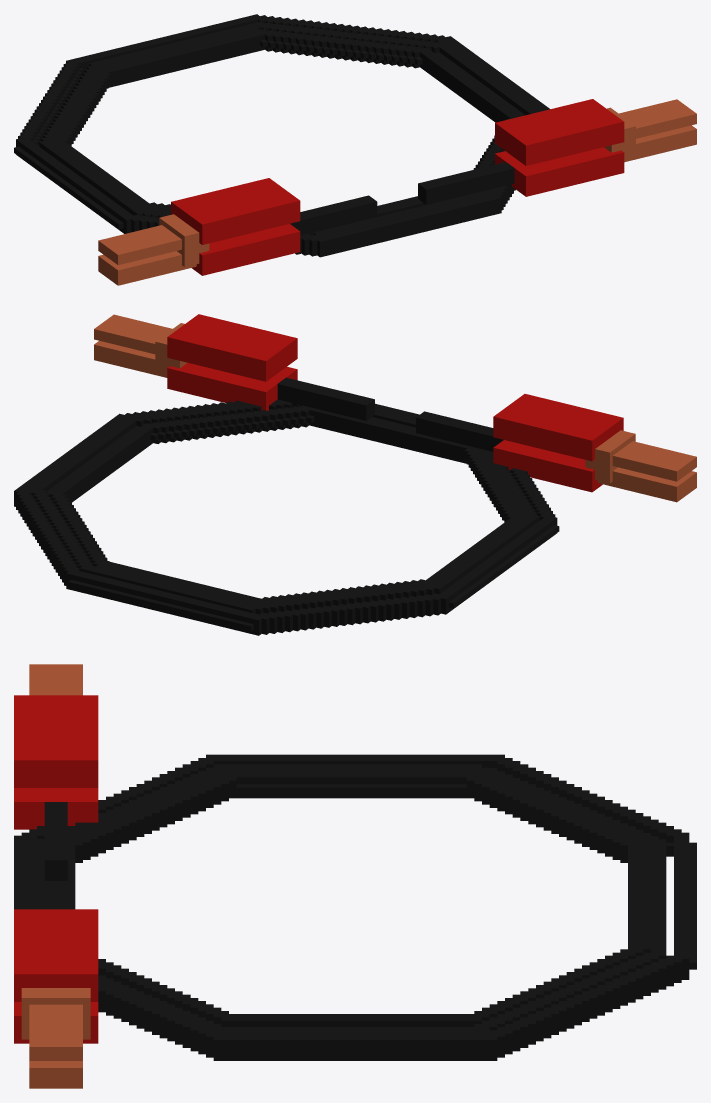
Rendered from jumper_cable.glb.
3 renders of one model, top to bottom at view 1: azimuth 30°, elevation 25°; view 2: azimuth 150°, elevation 25°; view 3: azimuth 270°, elevation 25°, orthographic. The views are drawn at different scales.
Parts seen in each view (by area): view 1: jumper_cable:compound; view 2: jumper_cable:compound; view 3: jumper_cable:compound.
Boxes of the visible parts, <box> form: jumper_cable:compound: <box>14,14,696,285</box>; jumper_cable:compound: <box>14,314,696,635</box>; jumper_cable:compound: <box>14,664,696,1088</box>.
Size of the model in its own units: 0.236 by 0.024 by 0.178.
